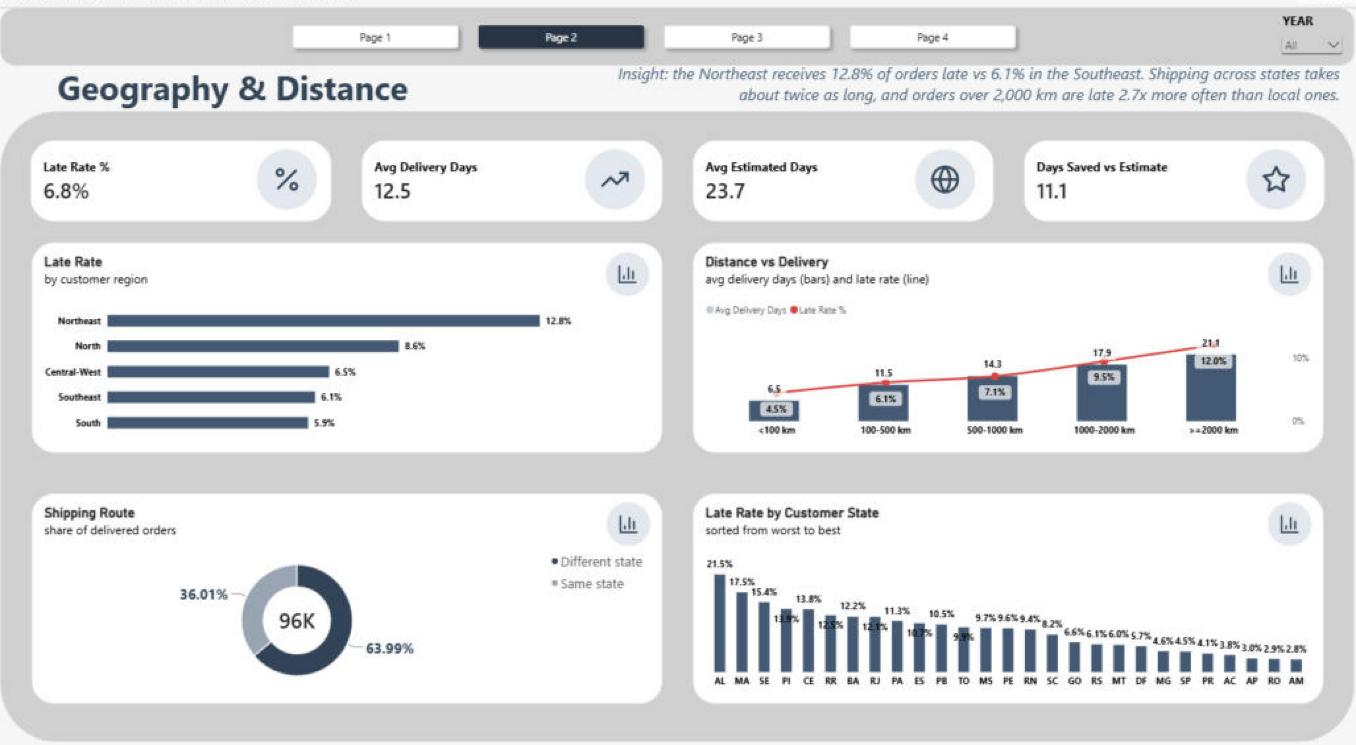

Layout of this report page (visuals, bound fields, positions):
{"tool":"powerbi","page":{"name":"Page 2","canvas":[1920,1080],"ordinal":1},"visuals":[{"type":"shape","box":[59.8,43.8,1800.4,75.9],"z":0},{"type":"shape","box":[59.8,180.9,1800.4,838.9],"z":0,"group":"g1"},{"type":"textbox","title":"Geography & Distance","box":[135.6,119.4,978.4,61.9],"z":1000},{"type":"group","id":"g1","title":"Group 1","box":[59.8,180.9,1800.4,838.9],"z":2000},{"type":"cardVisual","fields":{"Data":["fact_orders.Late Rate %"]},"box":[100,219.6,400,108.9],"z":3000,"group":"g1"},{"type":"image","box":[813.7,231.8,125.5,80.2],"z":3000},{"type":"slicer","fields":{"Values":["Calendar.Year"]},"box":[1757.1,49.9,93.1,63.2],"z":4000},{"type":"cardVisual","fields":{"Data":["fact_orders.Avg Delivery Days"]},"box":[540,219,400,108.9],"z":4000,"group":"g1"},{"type":"cardVisual","fields":{"Data":["fact_orders.Avg Estimated Days"]},"box":[980,219,400,108.9],"z":5000,"group":"g1"},{"type":"image","box":[848.7,368.4,90,57.6],"z":5000},{"type":"cardVisual","fields":{"Data":["fact_orders.Days Saved vs Estimate"]},"box":[1420,219,400,108.9],"z":6000,"group":"g1"},{"type":"image","box":[1728.4,368.4,90,57.6],"z":6000},{"type":"barChart","title":"Late Rate","fields":{"Category":["dim_customer.customer_region"],"Y":["fact_orders.Late Rate %"]},"box":[100.7,355.7,838.9,279.8],"z":7000,"group":"g1"},{"type":"image","box":[1729.6,701,90,57.6],"z":7000},{"type":"lineClusteredColumnComboChart","title":"Distance vs Delivery","fields":{"Category":["fact_orders.Distance Band"],"Y":["fact_orders.Avg Delivery Days"],"Y2":["fact_orders.Late Rate %"]},"box":[980.4,355.7,838.9,279.8],"z":8000,"group":"g1"},{"type":"image","box":[850.1,701,90,57.6],"z":8000},{"type":"image","box":[377.2,231.8,125.5,80.2],"z":9000},{"type":"donutChart","title":"Shipping Route","fields":{"Category":["fact_order_items.Route"],"Y":["fact_order_items.Seller Orders"]},"box":[100.7,689.5,838.9,279.8],"z":9000,"group":"g1"},{"type":"pageNavigator","box":[439.1,56.9,980.4,49.6],"z":10000},{"type":"columnChart","title":"Late Rate by Customer State","fields":{"Category":["dim_customer.customer_state"],"Y":["fact_orders.Late Rate %"]},"box":[980.4,689.5,838.9,279.8],"z":10000,"group":"g1"},{"type":"image","box":[1693.3,231.8,125.5,80.2],"z":11000},{"type":"image","box":[1253.5,231.8,125.5,80.2],"z":12000},{"type":"textbox","title":"Insight: the Northeast receives 12.8% of orders late vs 6.1% in the Southeast. Shipping across states takes about twice as long, and orders over 2,000 km are late 2.7x more often than local ones.","box":[840,116,1000,64],"z":14000}]}

Visuals, with their boxes in screenshot pixels (x1, y1, x2, y2), scaled from the page's 1920x1080 canvas onto the 1356x745 screenshot:
shape: locate(42, 30, 1314, 83)
shape: locate(42, 125, 1314, 703)
"Geography & Distance" textbox: locate(96, 82, 787, 125)
"Group 1" group: locate(42, 125, 1314, 703)
cardVisual - fact_orders.Late Rate %: locate(71, 151, 353, 227)
image: locate(575, 160, 663, 215)
slicer - Calendar.Year: locate(1241, 34, 1307, 78)
cardVisual - fact_orders.Avg Delivery Days: locate(381, 151, 664, 226)
cardVisual - fact_orders.Avg Estimated Days: locate(692, 151, 975, 226)
image: locate(599, 254, 663, 294)
cardVisual - fact_orders.Days Saved vs Estimate: locate(1003, 151, 1285, 226)
image: locate(1221, 254, 1284, 294)
"Late Rate" barChart: locate(71, 245, 664, 438)
image: locate(1222, 484, 1285, 523)
"Distance vs Delivery" lineClusteredColumnComboChart: locate(692, 245, 1285, 438)
image: locate(600, 484, 664, 523)
image: locate(266, 160, 355, 215)
"Shipping Route" donutChart: locate(71, 476, 664, 669)
pageNavigator: locate(310, 39, 1003, 73)
"Late Rate by Customer State" columnChart: locate(692, 476, 1285, 669)
image: locate(1196, 160, 1285, 215)
image: locate(885, 160, 974, 215)
"Insight: the Northeast receives 12.8% of orders late vs 6.1% in the Southeast. Shipping across states takes about twice as long, and orders over 2,000 km are late 2.7x more often than local ones." textbox: locate(593, 80, 1300, 124)
